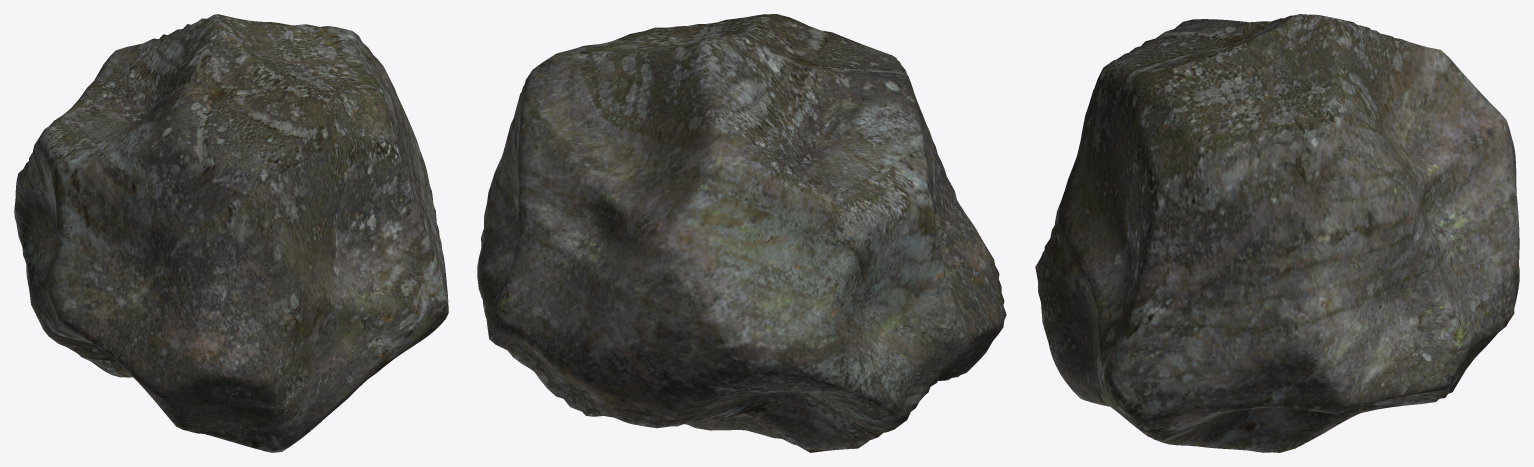
The model's file is rock1.glb.
3 renders of one model, left to right at view 1: azimuth 30°, elevation 25°; view 2: azimuth 150°, elevation 25°; view 3: azimuth 270°, elevation 25°, orthographic. The views are drawn at different scales.
Visible parts, largest first — view 1: High-Poly Rock1_2; view 2: High-Poly Rock1_2; view 3: High-Poly Rock1_2.
Part boxes in pixels (x1=…): High-Poly Rock1_2: x1=14, y1=14, x2=448, y2=452; High-Poly Rock1_2: x1=477, y1=14, x2=1006, y2=452; High-Poly Rock1_2: x1=1035, y1=14, x2=1519, y2=452.
Bounding box in the file's own units: 3.54 × 3.1 × 3.28.
1 material, 1 textured.
